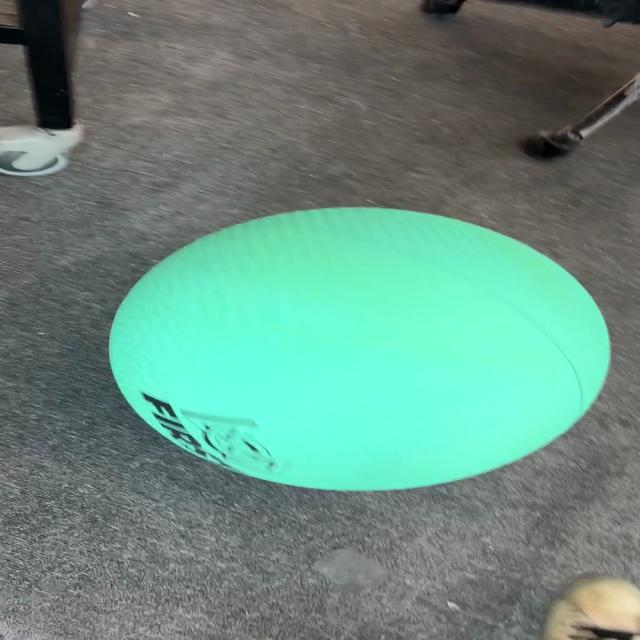Algae: (106, 205, 612, 492)
